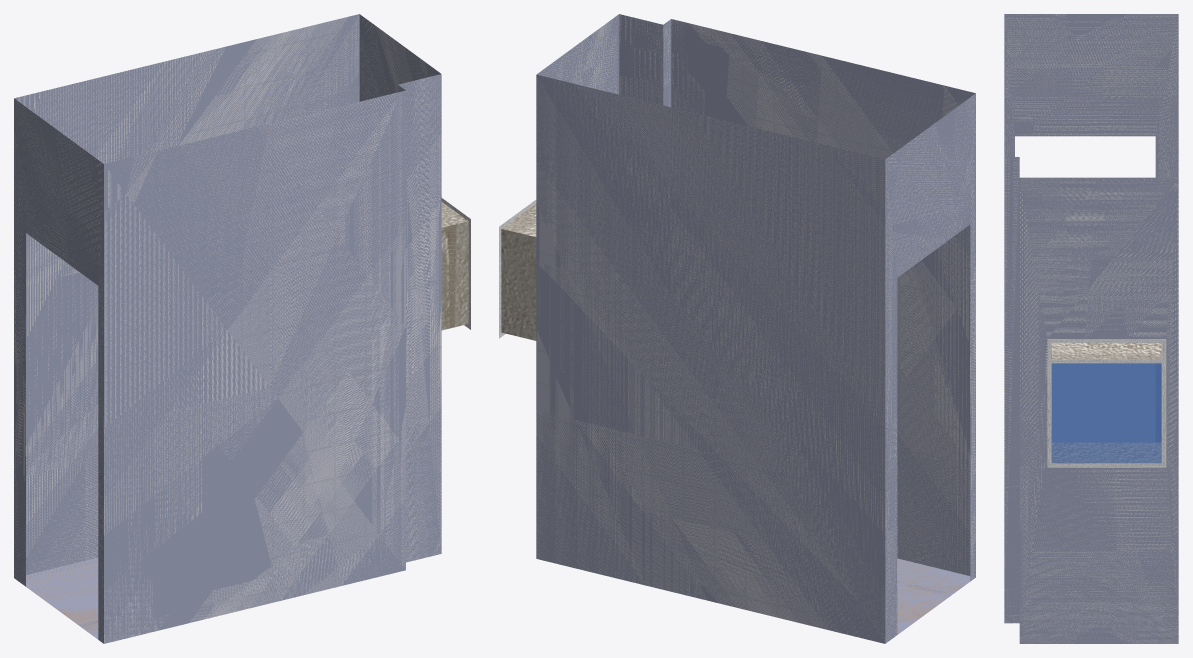
File: COM007.obj
3 views of the same model, side by side, from view 1: azimuth 30°, elevation 25°; view 2: azimuth 150°, elevation 25°; view 3: azimuth 270°, elevation 25° (orthographic). The views are drawn at different scales.
Visible parts, largest first — view 1: Mesh5 COM007 Model, Mesh1 Group1 COM007 Model; view 2: Mesh5 COM007 Model, Mesh1 Group1 COM007 Model; view 3: Mesh5 COM007 Model, Mesh1 Group1 COM007 Model.
Boxes of the visible parts, x1,y1,x2,y2 form: Mesh5 COM007 Model: (14,14,441,643); Mesh1 Group1 COM007 Model: (441,198,470,330); Mesh5 COM007 Model: (536,14,975,643); Mesh1 Group1 COM007 Model: (499,200,536,340); Mesh5 COM007 Model: (1004,14,1178,643); Mesh1 Group1 COM007 Model: (1047,339,1166,467).
Size of the model in its own units: 2.55 by 3 by 1.02.
Materials: 6 (3 with a texture image).
